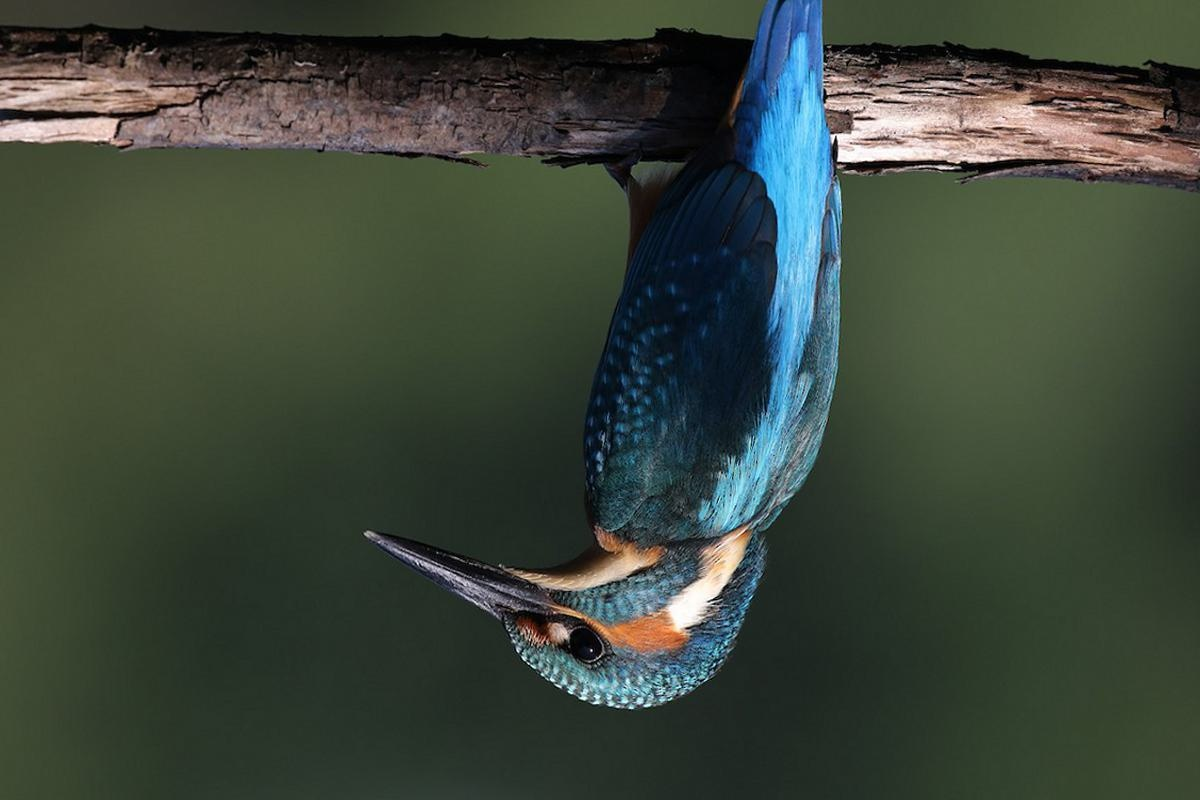kingfisher: (363, 19, 918, 730)
